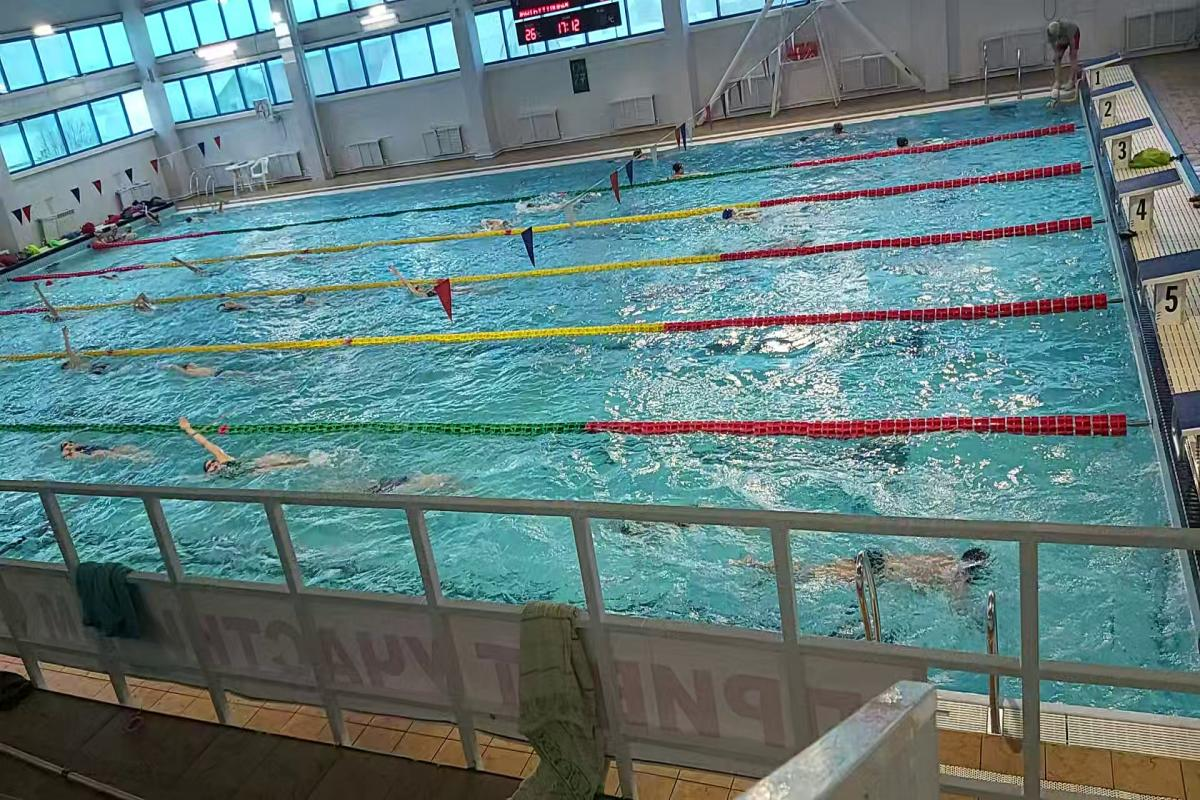swimmer: (761, 534, 1005, 604), (174, 421, 327, 482), (358, 456, 472, 497), (53, 434, 165, 473), (167, 354, 275, 390), (57, 331, 124, 383), (383, 260, 438, 304), (25, 280, 76, 326), (209, 288, 274, 324), (716, 205, 766, 229), (285, 288, 336, 311), (126, 296, 163, 317), (474, 214, 516, 231)
